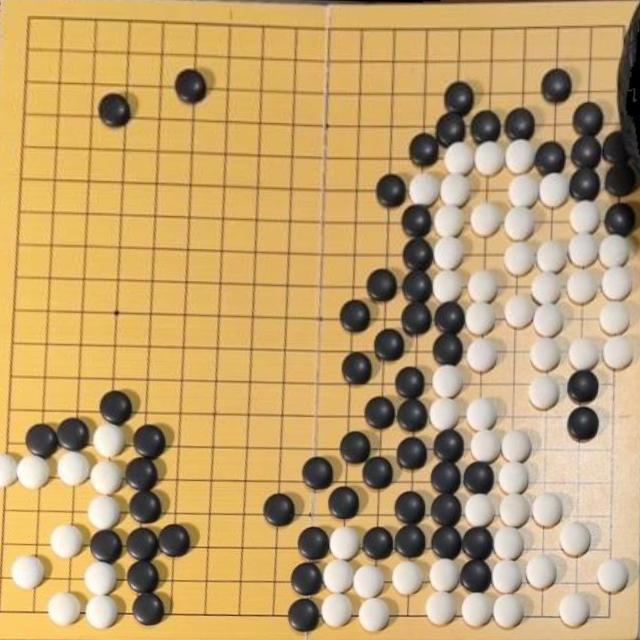blackstone: (128, 490, 162, 525), (604, 163, 637, 199), (124, 457, 158, 491), (125, 528, 159, 562), (567, 406, 599, 442), (435, 111, 467, 147), (298, 526, 330, 562), (57, 418, 90, 452), (133, 425, 166, 459), (157, 524, 190, 558), (127, 560, 160, 594), (459, 559, 492, 593), (461, 526, 494, 560), (100, 391, 132, 426), (604, 202, 636, 237), (569, 166, 601, 201), (90, 529, 122, 564), (26, 424, 59, 457), (132, 593, 165, 626), (98, 93, 130, 127), (567, 370, 599, 404), (288, 598, 320, 632), (291, 562, 323, 596), (394, 524, 426, 558), (430, 492, 462, 526), (264, 494, 296, 527), (470, 110, 502, 143), (534, 142, 566, 175), (570, 135, 602, 168), (362, 527, 394, 560), (463, 461, 495, 494), (394, 492, 426, 525), (430, 526, 462, 559), (176, 69, 207, 103), (431, 461, 462, 495), (433, 429, 465, 461), (432, 334, 464, 366), (444, 82, 475, 115), (302, 457, 333, 490), (364, 397, 395, 430), (397, 399, 428, 432), (542, 68, 572, 102), (376, 174, 406, 208), (409, 133, 439, 167), (402, 302, 432, 336), (340, 300, 371, 332), (366, 269, 397, 301), (504, 108, 535, 140), (397, 438, 428, 470), (434, 302, 465, 334), (573, 102, 603, 135), (374, 329, 404, 362), (329, 487, 359, 520), (342, 353, 372, 385), (402, 205, 432, 237), (340, 432, 370, 464), (395, 367, 425, 399), (403, 238, 433, 270), (362, 456, 392, 488), (402, 270, 432, 302), (602, 131, 629, 165)
whitestone: (92, 422, 127, 459), (16, 454, 50, 491), (47, 592, 82, 627), (57, 451, 91, 487), (90, 460, 124, 496), (88, 494, 122, 530), (50, 524, 84, 559), (11, 555, 44, 591), (84, 562, 118, 596), (470, 202, 504, 236), (596, 559, 629, 594), (559, 522, 591, 558), (601, 266, 633, 302), (473, 140, 505, 176), (353, 564, 385, 600), (539, 172, 571, 208), (321, 592, 353, 628), (492, 594, 524, 630), (426, 591, 458, 627), (461, 592, 493, 628), (86, 596, 120, 629), (428, 397, 461, 431), (529, 338, 562, 372), (428, 559, 461, 593), (392, 561, 424, 596), (323, 559, 355, 594), (566, 269, 598, 304), (504, 206, 536, 241), (568, 199, 600, 234), (358, 598, 390, 633), (505, 139, 537, 174), (491, 559, 523, 594), (568, 233, 600, 268), (434, 205, 467, 238), (602, 335, 634, 369), (466, 339, 498, 373), (599, 302, 631, 336), (464, 302, 496, 336), (568, 338, 600, 372), (532, 304, 564, 338), (464, 494, 496, 528), (504, 242, 536, 276), (434, 236, 466, 270), (409, 172, 441, 206), (440, 172, 472, 206), (536, 240, 568, 274), (504, 294, 536, 328), (598, 234, 630, 268), (508, 174, 540, 208), (433, 269, 465, 303), (531, 270, 563, 304), (528, 376, 559, 411), (466, 399, 498, 432), (469, 430, 502, 462), (525, 556, 556, 590), (499, 494, 530, 528), (444, 142, 475, 176), (559, 594, 590, 628), (532, 493, 562, 528), (432, 366, 464, 398), (467, 270, 499, 302), (329, 527, 360, 560), (498, 462, 529, 494), (494, 527, 524, 560), (501, 430, 531, 462), (0, 453, 18, 488)
